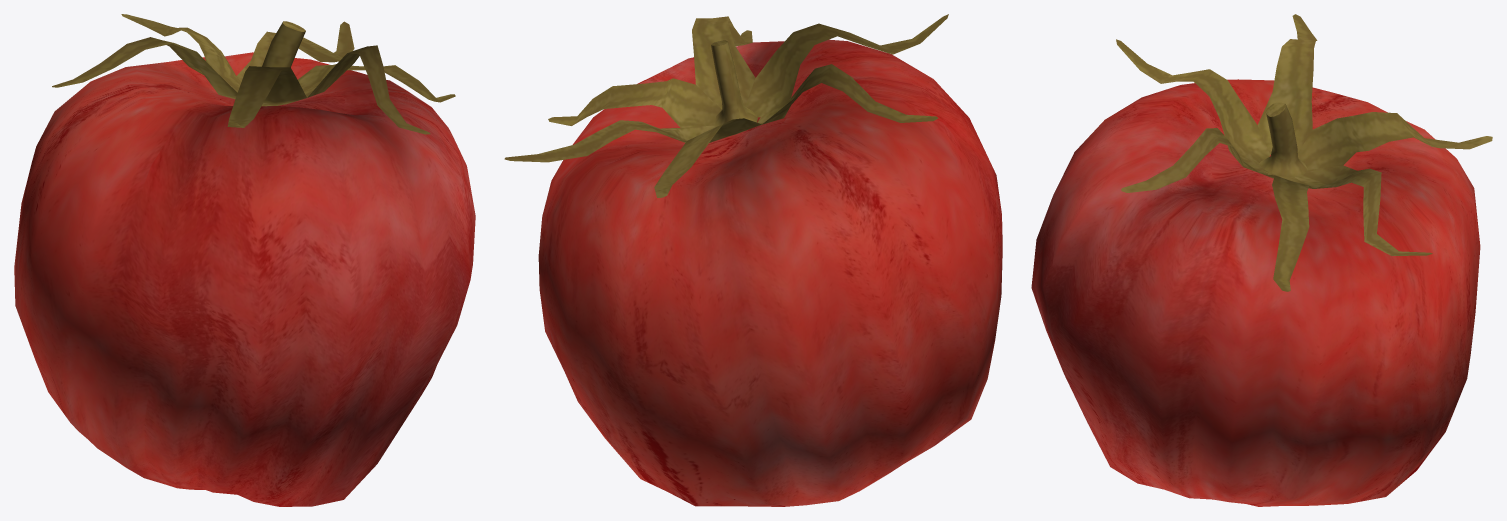
Rendered from tomato2.glb.
3 views of the same model, side by side, from view 1: azimuth 30°, elevation 25°; view 2: azimuth 150°, elevation 25°; view 3: azimuth 270°, elevation 25° (orthographic). The views are drawn at different scales.
Visible parts, largest first — view 1: Cherry_tomato1; view 2: Cherry_tomato1; view 3: Cherry_tomato1.
Part boxes in pixels (box(x1,y1,x2,y2)): Cherry_tomato1: box(14, 14, 475, 506); Cherry_tomato1: box(504, 14, 1002, 506); Cherry_tomato1: box(1031, 14, 1492, 506).
Bounding box in the file's own units: 0.0319 × 0.0314 × 0.0321.
1 material, 1 textured.
